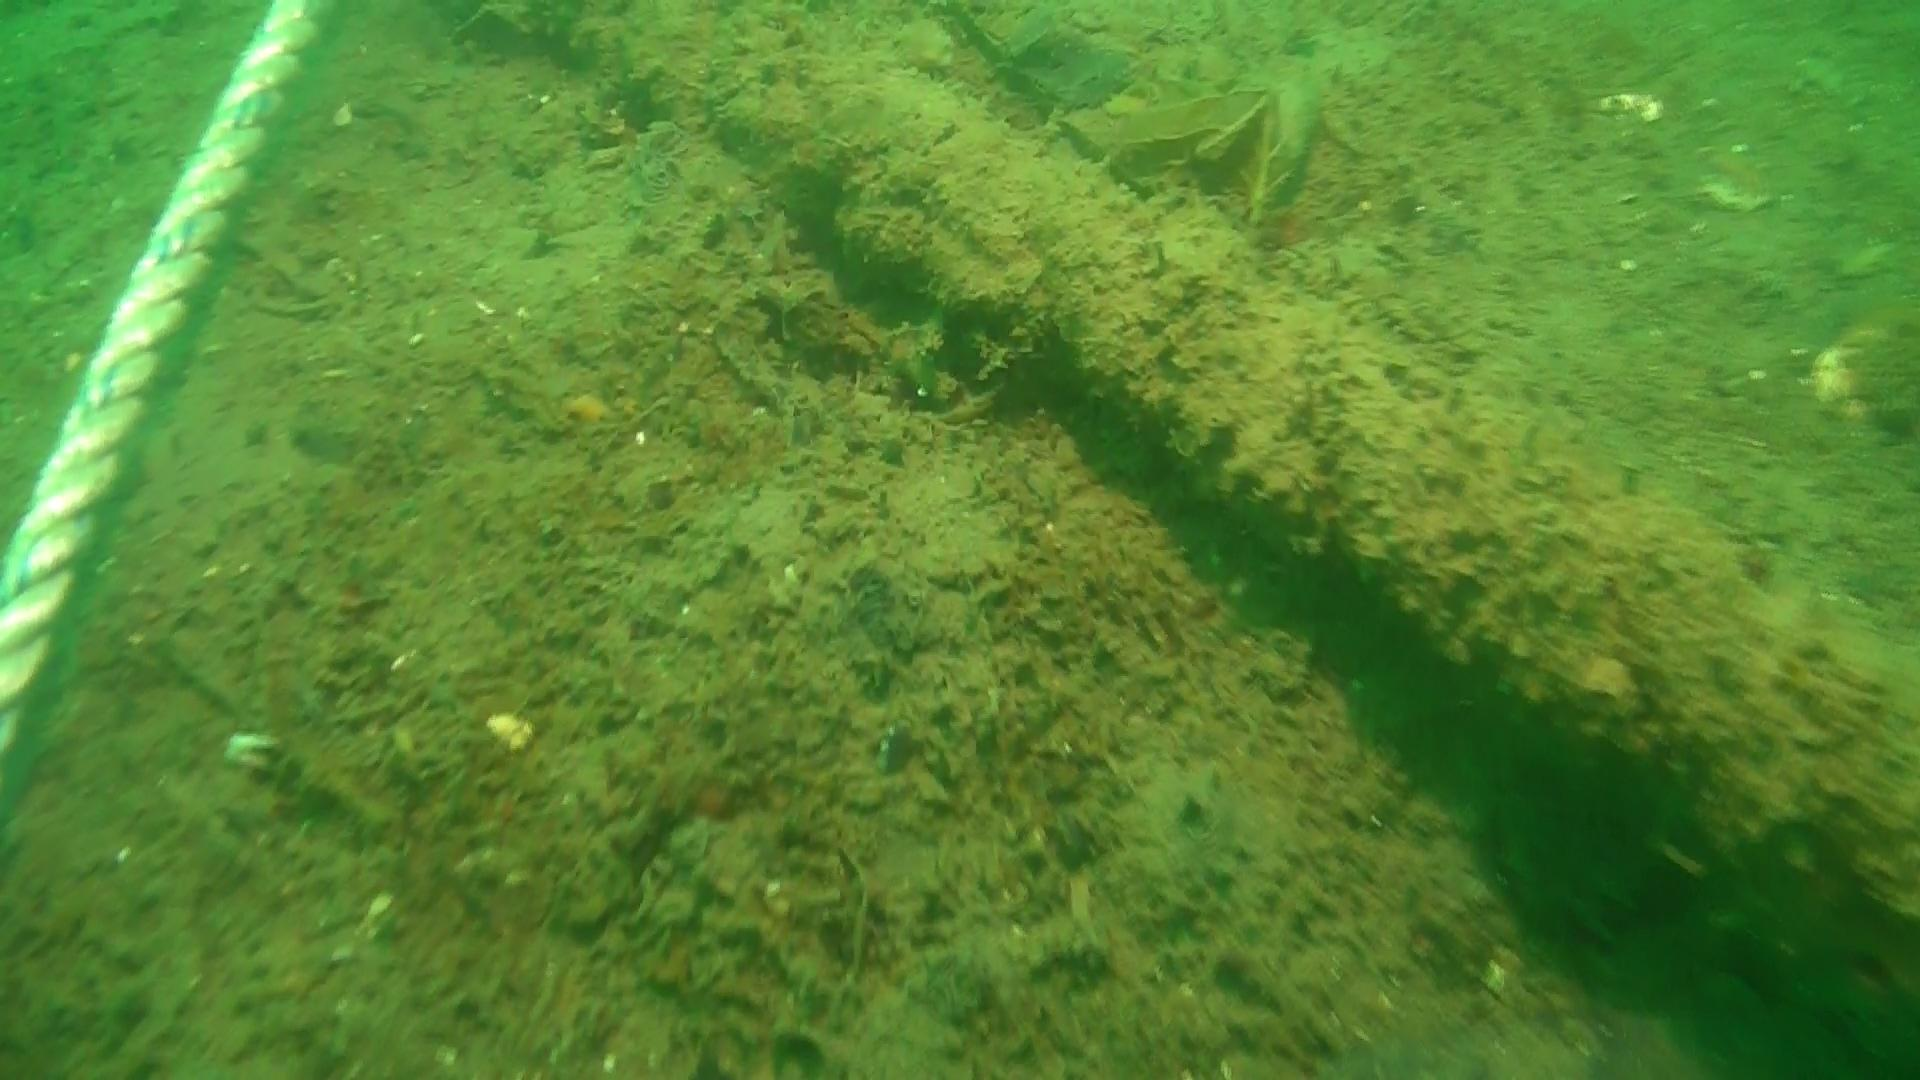rope: (0, 0, 343, 757)
